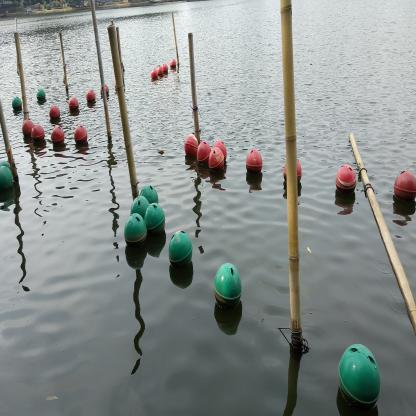green_buoy: (336, 344, 383, 414), (213, 260, 243, 312), (170, 231, 193, 275), (124, 212, 146, 252), (146, 202, 166, 236), (0, 165, 16, 201), (141, 183, 161, 203), (130, 193, 147, 211), (12, 96, 22, 115), (37, 91, 48, 102)
red_buoy: (334, 164, 358, 202), (392, 170, 415, 205), (246, 147, 263, 183), (196, 140, 211, 170), (210, 146, 226, 174), (184, 135, 198, 164), (74, 125, 90, 150), (20, 118, 34, 144), (51, 126, 65, 149), (32, 125, 46, 147), (67, 98, 80, 117), (50, 105, 60, 124), (86, 90, 96, 107), (100, 85, 109, 97), (151, 68, 158, 82), (156, 66, 164, 78), (162, 63, 170, 74), (169, 59, 176, 70)
